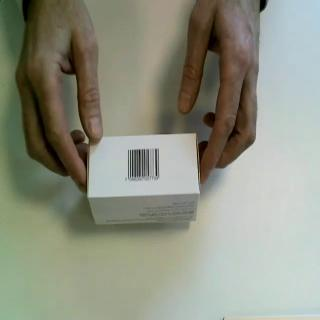oxycontin10mg: (87, 132, 203, 226)
